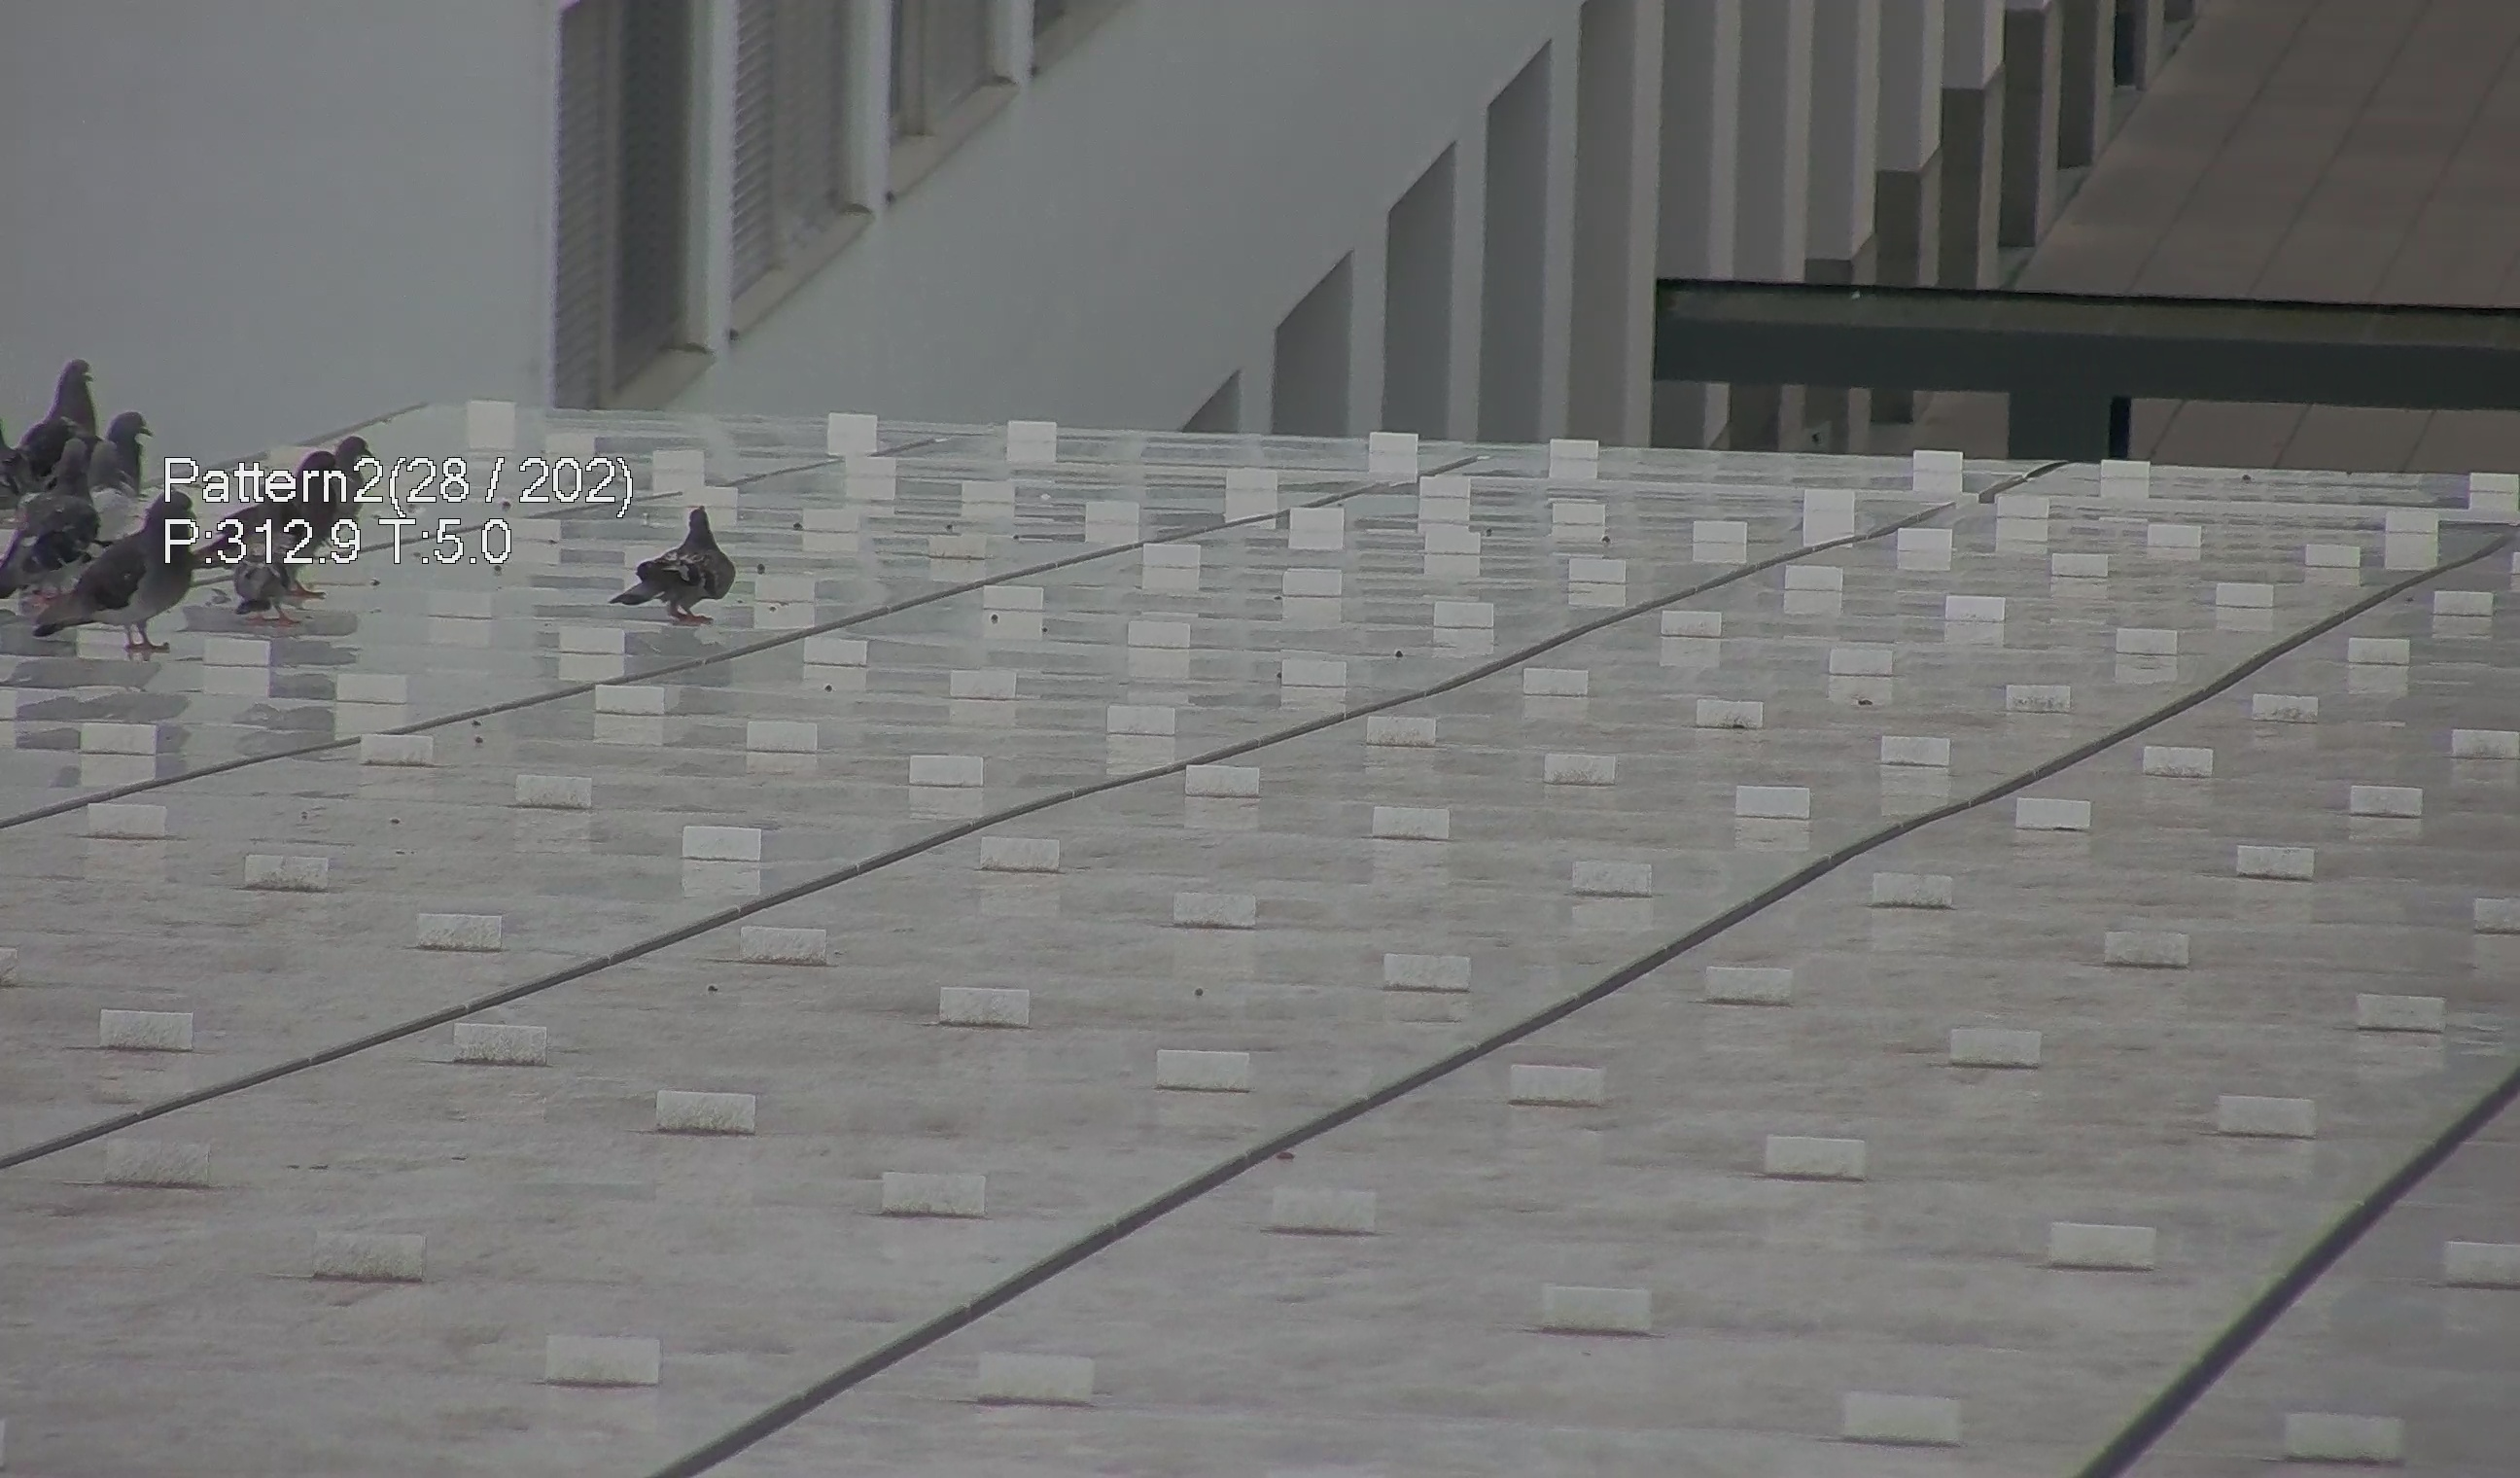Pigeon: (213, 429, 375, 609), (49, 486, 193, 651), (596, 500, 739, 621), (93, 392, 164, 479), (44, 334, 102, 431)
